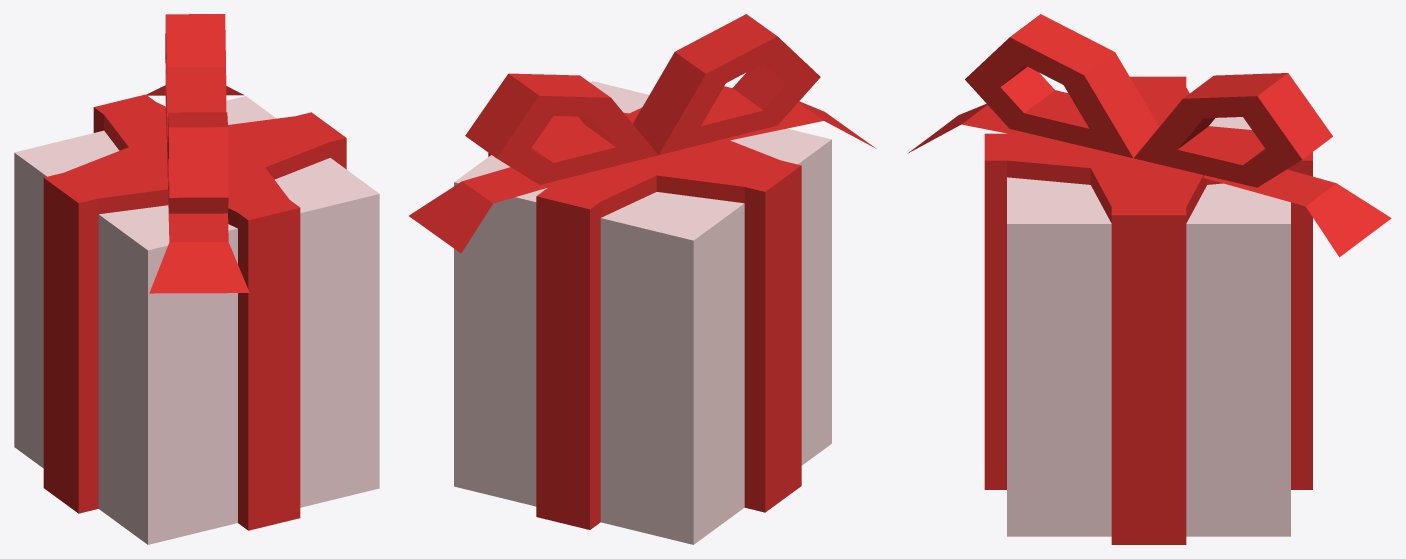
Rendered from prezent_3.fbx.
3 renders of one model, left to right at view 1: azimuth 30°, elevation 25°; view 2: azimuth 150°, elevation 25°; view 3: azimuth 270°, elevation 25°, orthographic. The views are drawn at different scales.
Visible parts, largest first — view 1: Cube.019; view 2: Cube.019; view 3: Cube.019.
Boxes of the visible parts, x1,y1,x2,y2 form: Cube.019: [14, 14, 379, 544]; Cube.019: [409, 14, 876, 544]; Cube.019: [907, 14, 1391, 544].
Bounding box in the file's own units: 237 × 327 × 342.
